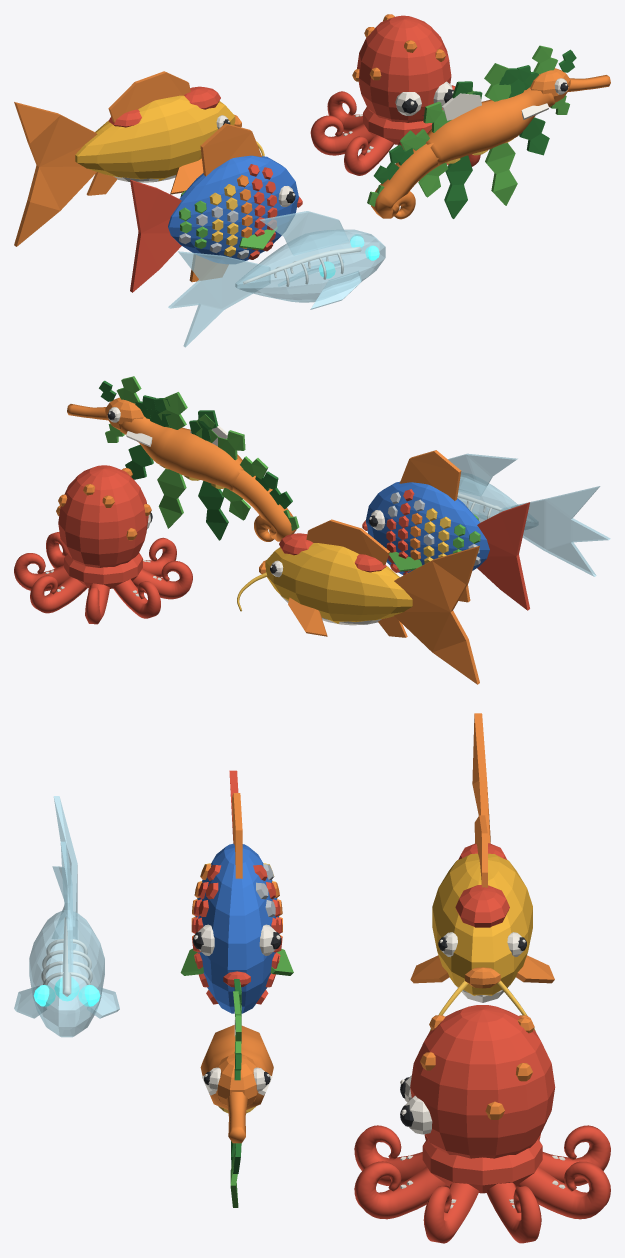
Rendered from mythic-fish-set.glb.
3 views of the same model, one above another, from view 1: azimuth 30°, elevation 25°; view 2: azimuth 150°, elevation 25°; view 3: azimuth 270°, elevation 25° (orthographic). The views are drawn at different scales.
Parts seen in each view (by area): view 1: Koi_Body, Ghost_Body, Kraken_Mantle, Rainbow_Body, Koi_Tail, Dragon_Body, Ghost_Tail, Rainbow_Tail, Dragon_Tail, Ghost_Fin_Dorsal, Koi_Fin_Dorsal, Rainbow_Fin_Dorsal (+25 smaller); view 2: Koi_Body, Kraken_Mantle, Koi_Tail, Rainbow_Body, Dragon_Body, Ghost_Tail, Rainbow_Tail, Dragon_Tail, Rainbow_Fin_Dorsal, Ghost_Body, Koi_Fin_Dorsal, Ghost_Fin_Dorsal (+23 smaller); view 3: Kraken_Mantle, Koi_Body, Rainbow_Body, Ghost_Body, Kraken_Skirt, Kraken_Tentacle_7, Kraken_Tentacle_2, Kraken_Tentacle_1, Kraken_Tentacle_8, Dragon_Body, Kraken_Tentacle_3, Kraken_Tentacle_6 (+11 smaller).
Part boxes in pixels (x1,y1,x2,y2): Koi_Body: [75, 95, 235, 180]; Ghost_Body: [235, 229, 385, 302]; Kraken_Mantle: [357, 15, 451, 122]; Rainbow_Body: [168, 155, 298, 263]; Koi_Tail: [14, 102, 97, 246]; Dragon_Body: [426, 87, 554, 165]; Ghost_Tail: [168, 251, 270, 347]; Rainbow_Tail: [130, 179, 181, 292]; Dragon_Tail: [371, 143, 441, 219]; Ghost_Fin_Dorsal: [259, 211, 349, 255]; Koi_Fin_Dorsal: [108, 71, 190, 122]; Rainbow_Fin_Dorsal: [200, 123, 261, 176]; Koi_Body: [265, 543, 412, 623]; Kraken_Mantle: [58, 465, 148, 567]; Koi_Tail: [394, 545, 479, 684]; Rainbow_Body: [365, 481, 489, 574]; Dragon_Body: [120, 416, 243, 490]; Ghost_Tail: [501, 486, 610, 576]; Rainbow_Tail: [477, 502, 529, 610]; Dragon_Tail: [229, 469, 296, 541]; Rainbow_Fin_Dorsal: [399, 450, 461, 500]; Ghost_Body: [400, 472, 537, 530]; Koi_Fin_Dorsal: [306, 519, 389, 565]; Ghost_Fin_Dorsal: [448, 453, 517, 496]; Kraken_Mantle: [410, 1005, 555, 1158]; Koi_Body: [432, 853, 532, 995]; Rainbow_Body: [195, 843, 279, 1013]; Ghost_Body: [29, 910, 104, 1037]; Kraken_Skirt: [422, 1138, 542, 1193]; Kraken_Tentacle_7: [354, 1161, 448, 1219]; Kraken_Tentacle_2: [516, 1161, 610, 1219]; Kraken_Tentacle_1: [486, 1182, 541, 1243]; Kraken_Tentacle_8: [423, 1182, 479, 1243]; Dragon_Body: [200, 1025, 273, 1109]; Kraken_Tentacle_3: [538, 1125, 610, 1185]; Kraken_Tentacle_6: [354, 1125, 426, 1185].
Size of the model in its own units: 10.05 by 2.87 by 6.99.
